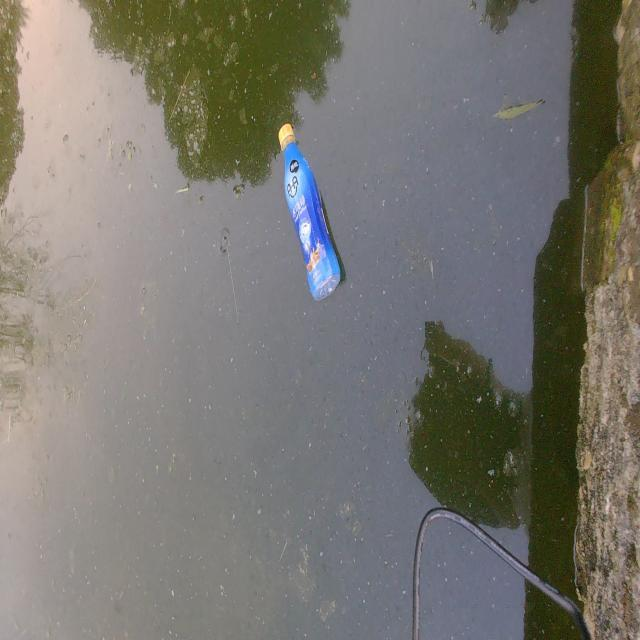bottle: (263, 78, 365, 333)
